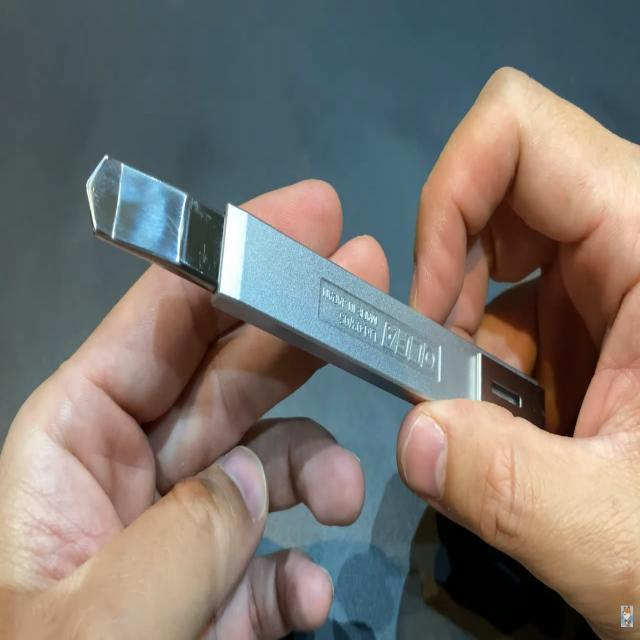cutter: (70, 58, 640, 590)
